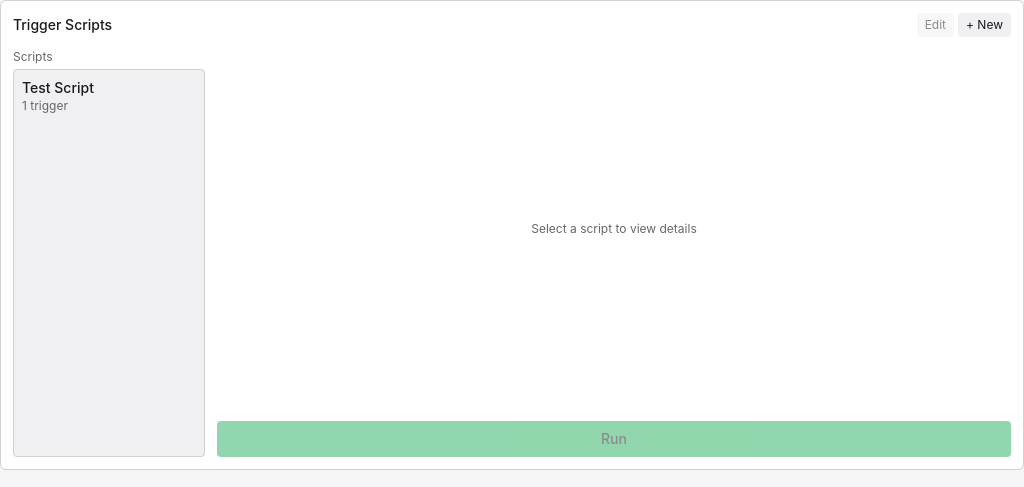
TriggerScriptPanel › Edit Mode › should enter new script mode when + New is clicked
The image size is (1024, 487).
Click the button "+ New".
click(984, 25)  # box [958,13,1011,37]
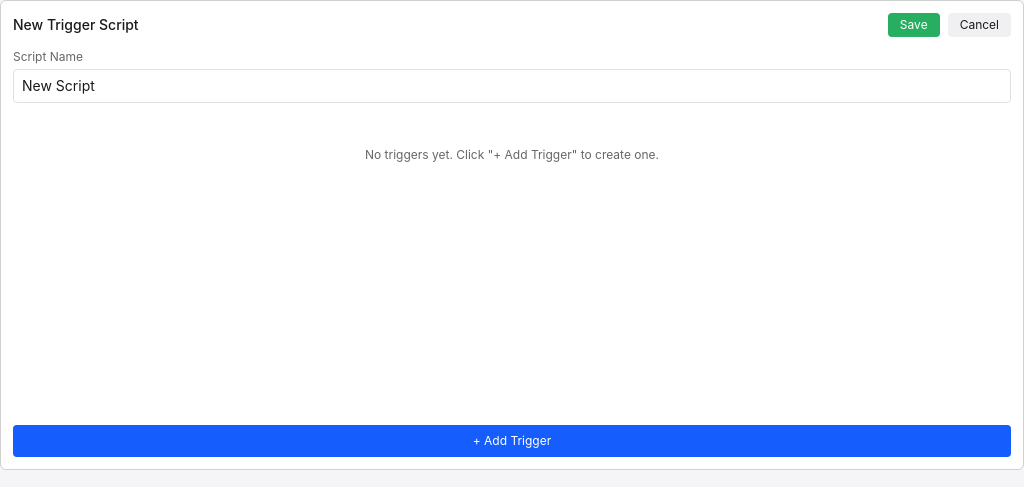
Result: the heading "New Trigger Script" is shown at [13,15,139,35]
